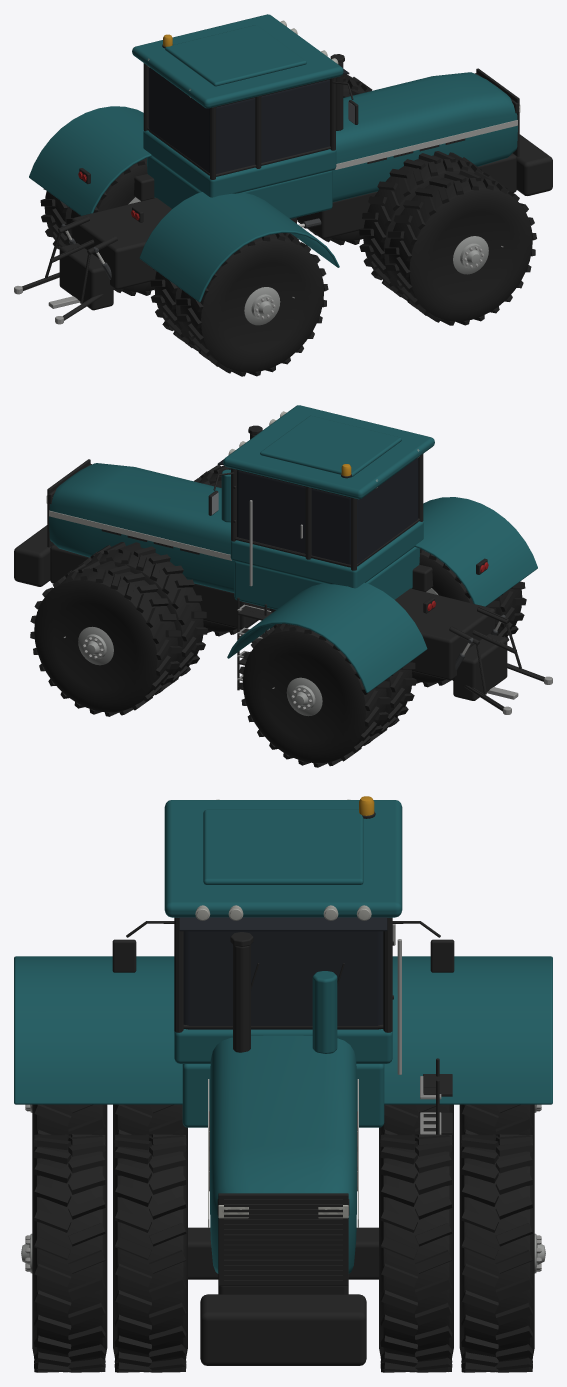
Rendered from SM_Prop_farm_tractor4wd_0.glb.
The picture shows the model from 3 angles, top to bottom: view 1: azimuth 30°, elevation 25°; view 2: azimuth 150°, elevation 25°; view 3: azimuth 270°, elevation 25°; orthographic projection. The views are drawn at different scales.
Parts seen in each view (by area): view 1: SM_Prop_farm_tractor4wd_0; view 2: SM_Prop_farm_tractor4wd_0; view 3: SM_Prop_farm_tractor4wd_0.
Part boxes in pixels (left/top/right/bottom): SM_Prop_farm_tractor4wd_0: left=14, top=14, right=552, bottom=376; SM_Prop_farm_tractor4wd_0: left=14, top=405, right=552, bottom=767; SM_Prop_farm_tractor4wd_0: left=14, top=796, right=552, bottom=1372.
Size of the model in its own units: 7.57 by 3.82 by 4.54.
